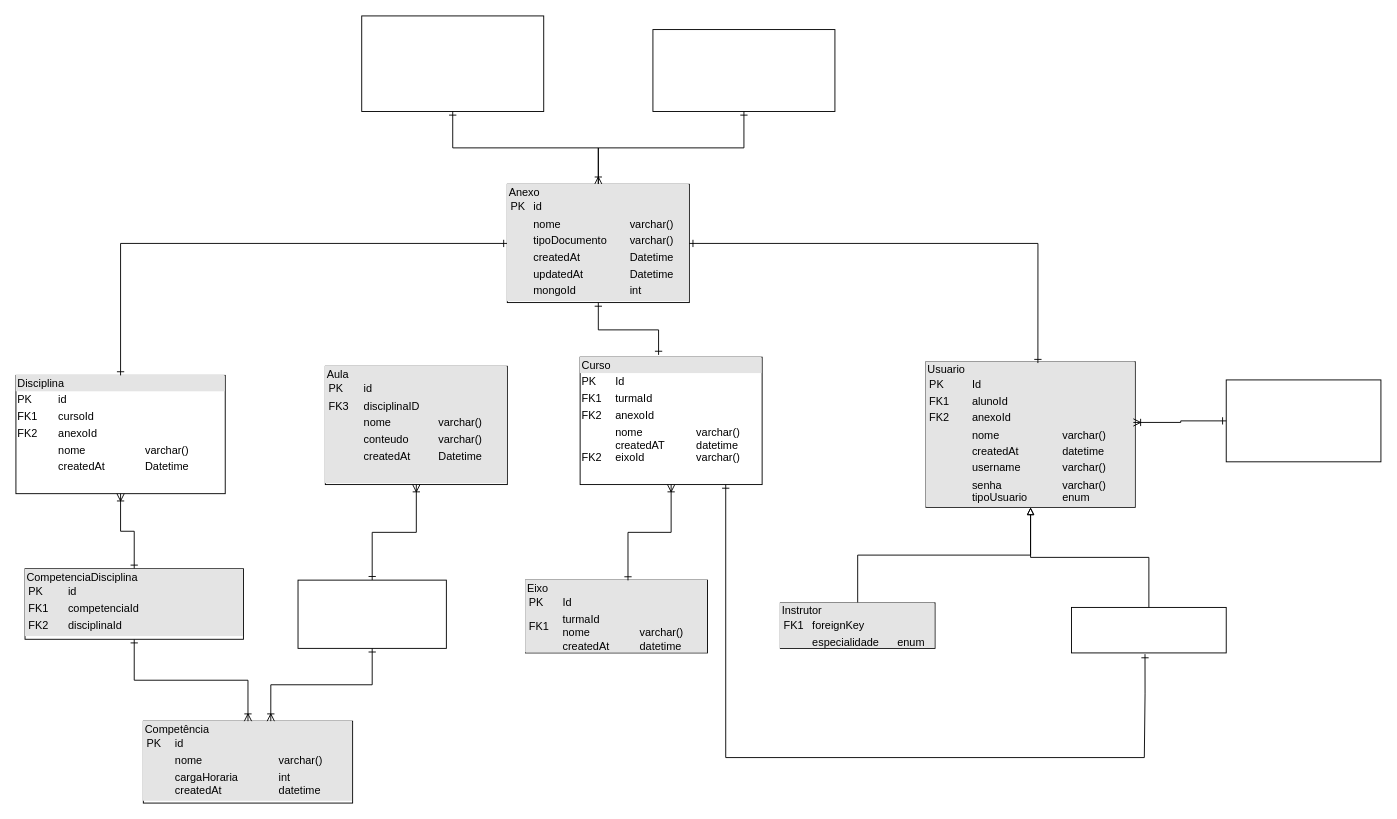
Some shapes in this 1397 by 819 pixel diagram are drawn without their labels. Here are the shapes that lost their labels. From the top down, the centre of each, then its label:
At point 452,63: "Material PK id FK1 FK2 disciplinaID aulaId FK3 anexoId nome varchar()".
At point 743,70: "Prova PK id FK1 competenciaId FK2 anexoId nome varchar()".
At point 1303,420: "Log PK id updatedAt acao dadosAntigos dadosNovos datetime varchar() JSON JSON".
At point 371,613: "AulaCompetencia PK id FK1 aulaId FK2 competenciaId".
At point 1148,630: "Turma FK1 FK2 eixoId responsavelId".
